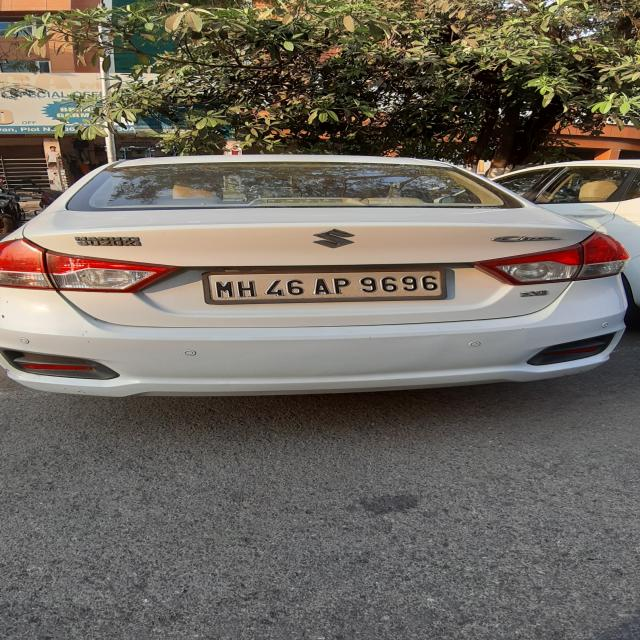Number-Plate: (207, 274, 443, 301)
